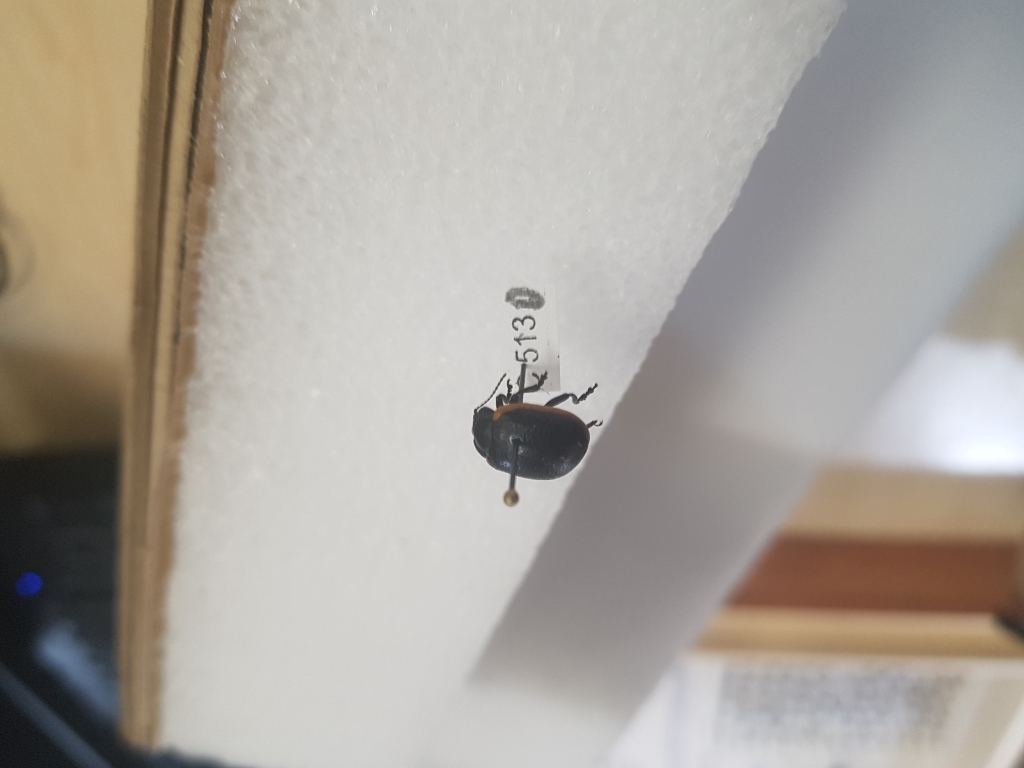Chrysolina_gypsophila: (467, 369, 609, 477)
